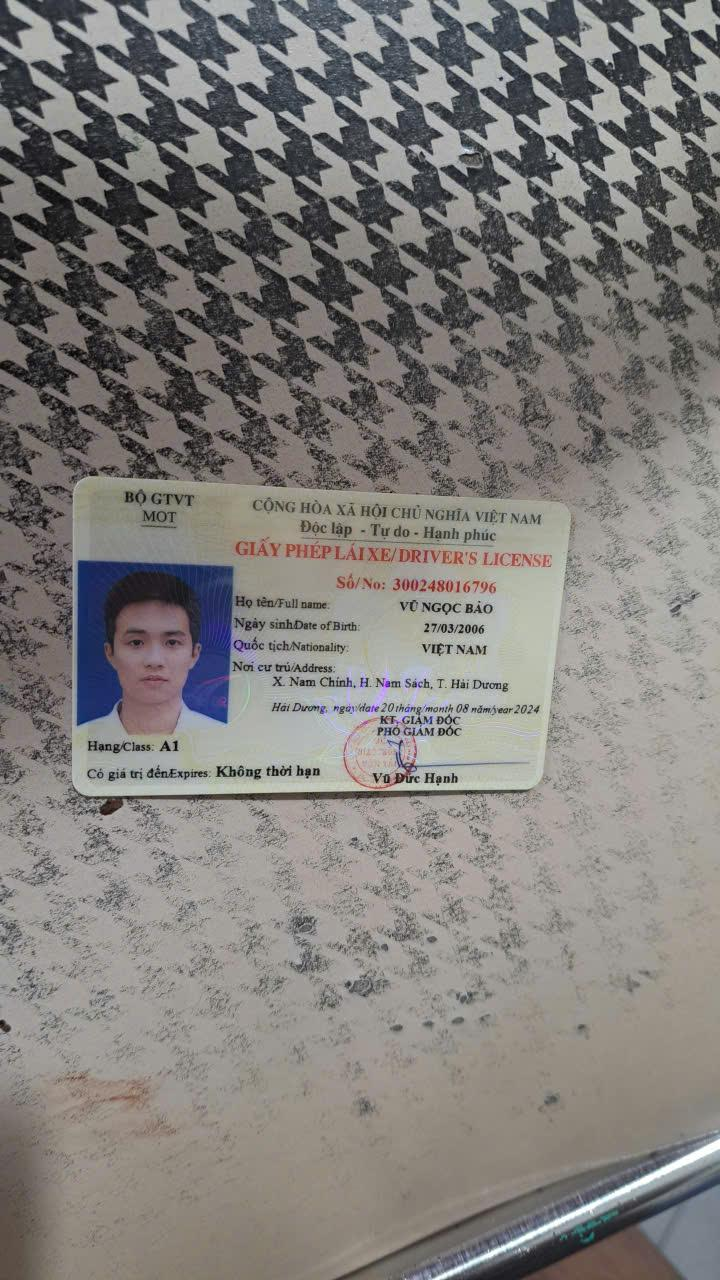gplx: (64, 475, 580, 810)
